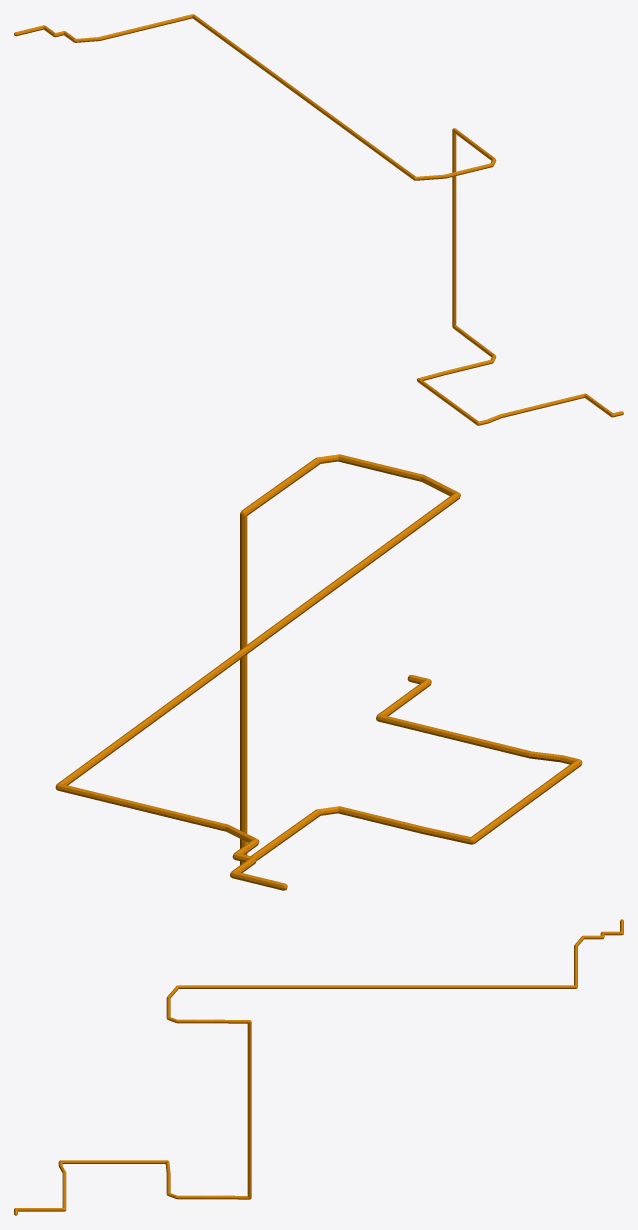
3 renders of one model, top to bottom at view 1: azimuth 30°, elevation 25°; view 2: azimuth 150°, elevation 25°; view 3: azimuth 270°, elevation 25°, orthographic. The views are drawn at different scales.
Size of the model in its own units: 1444 by 1020 by 3142.
